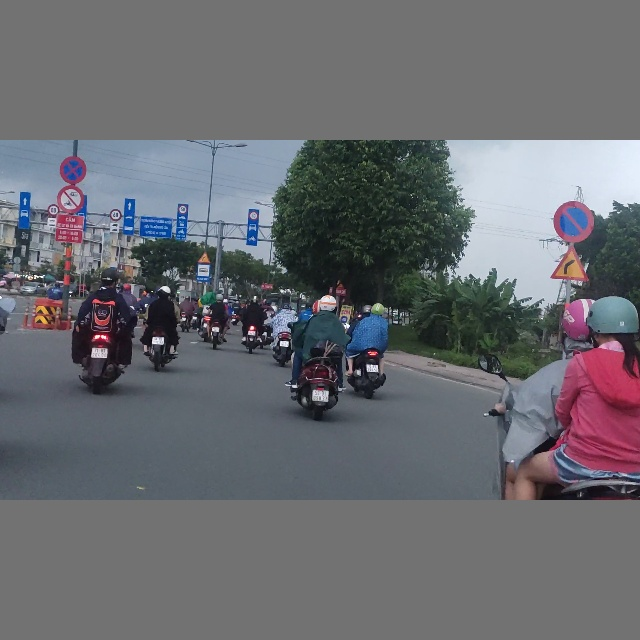I.434a: (196, 263, 211, 283)
P.111: (58, 186, 83, 213)
P.127*50: (178, 205, 188, 215), (248, 211, 259, 220)
P.127*60: (109, 208, 122, 221)
P.127*80: (47, 205, 59, 216)
P.130: (59, 156, 86, 185)
P.131a: (552, 199, 594, 241)
S.505a*Xe tai va cong: (109, 222, 120, 233)
W.201b: (549, 243, 589, 282), (197, 251, 210, 264)
